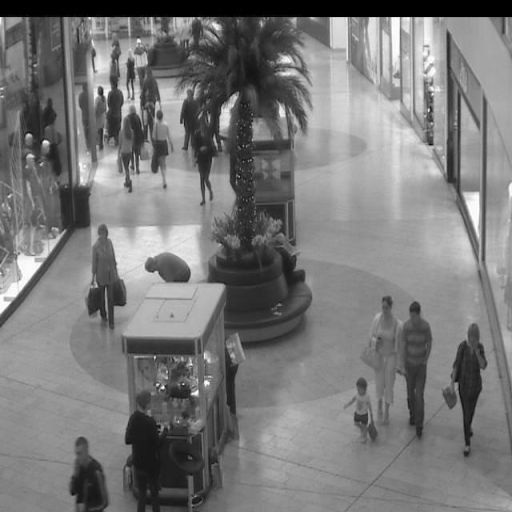person: (445, 319, 489, 453), (124, 385, 165, 512), (370, 293, 400, 428), (87, 223, 125, 324), (403, 294, 429, 439), (66, 436, 114, 510), (190, 127, 216, 203), (148, 107, 171, 185), (140, 251, 191, 286), (350, 374, 373, 439), (115, 117, 131, 187), (127, 105, 144, 170), (179, 85, 197, 145), (141, 67, 160, 115), (105, 36, 124, 83), (90, 86, 104, 144), (125, 52, 137, 106), (131, 37, 150, 70), (109, 76, 122, 123), (191, 17, 204, 55), (180, 17, 189, 52)
